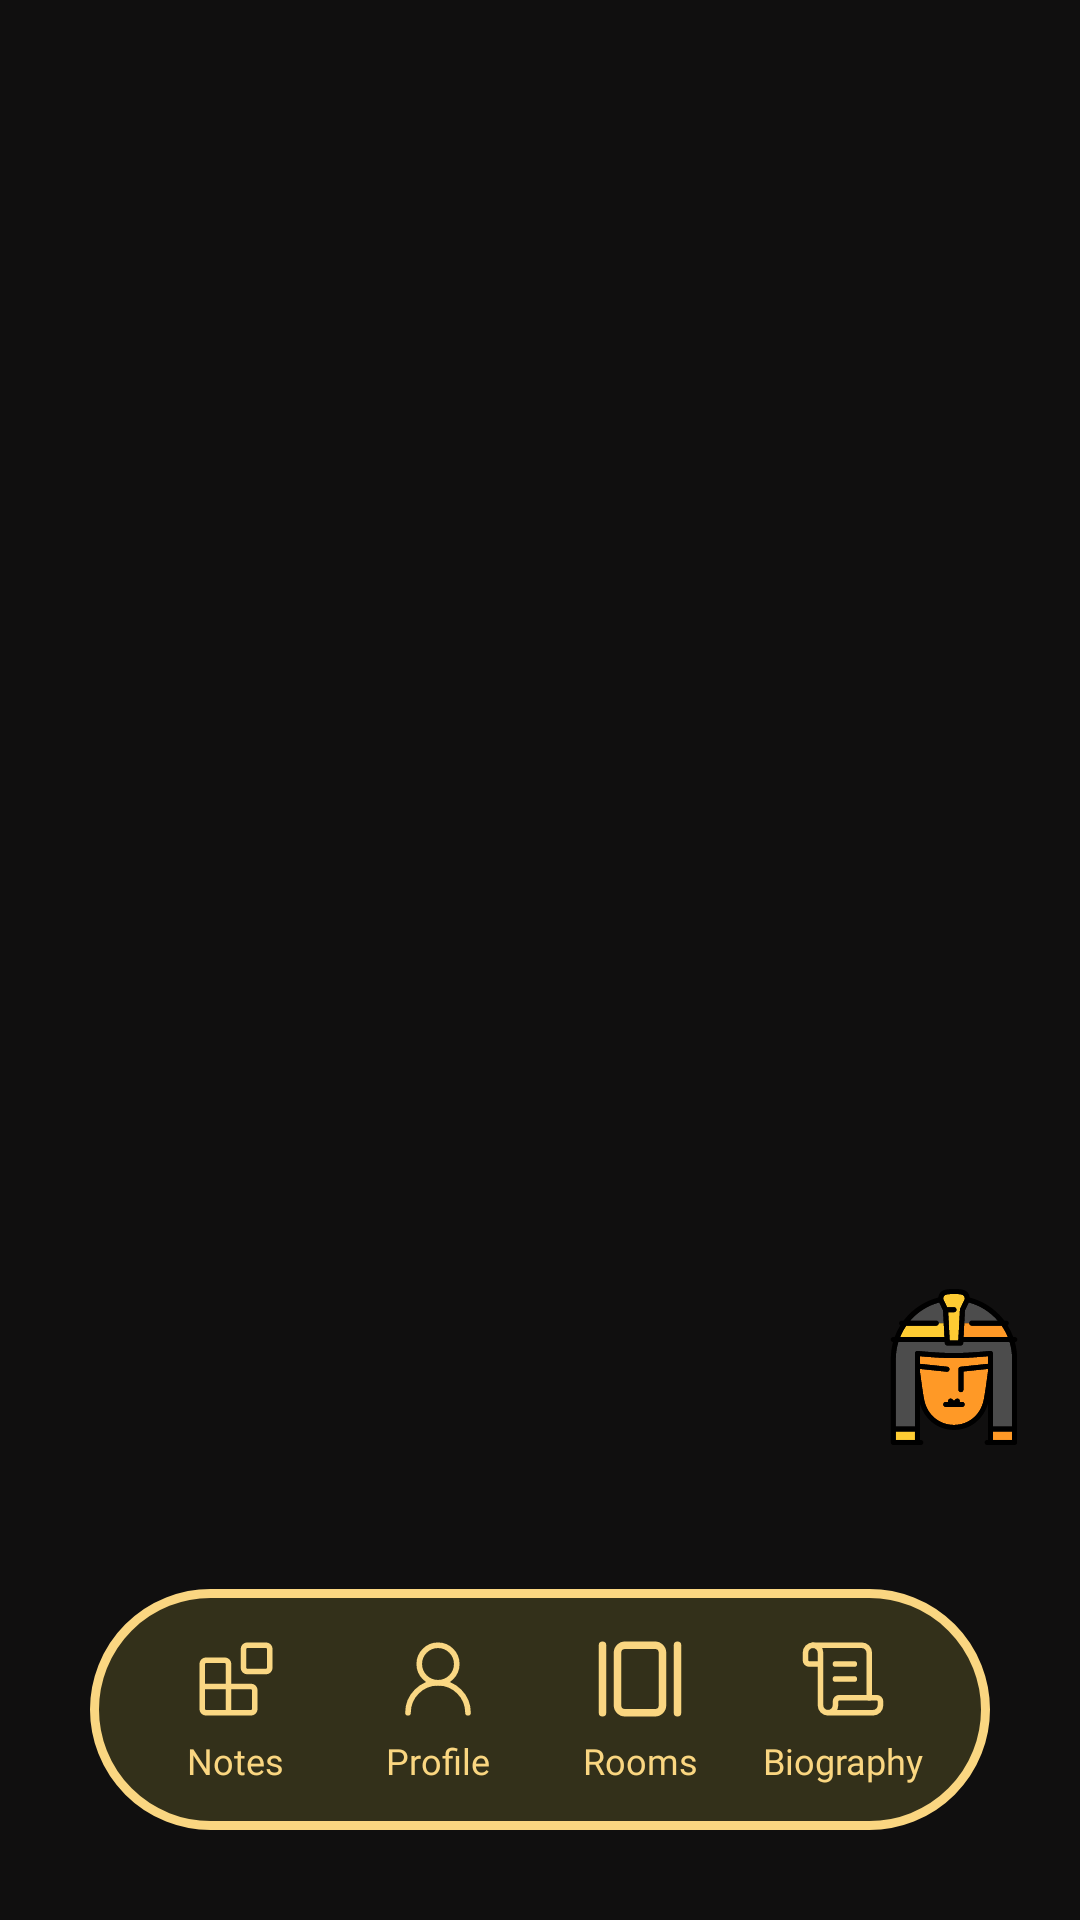

Where icons sit on this 1080w x 1920h app screen, as (x1=x1, y1=y1, x2=x2, y2=y2):
blocks: (x1=199, y1=1642, x2=273, y2=1716)
user round: (x1=405, y1=1642, x2=471, y2=1716)
